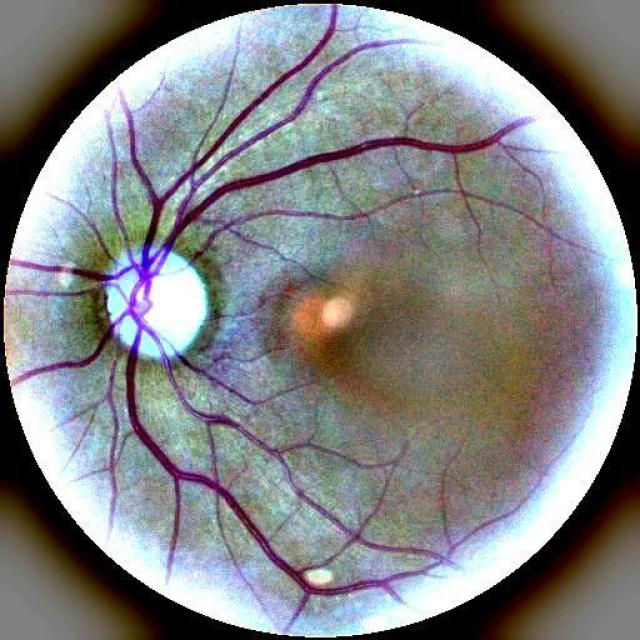Macula: (281, 286, 357, 349)
Nerves: (5, 4, 534, 616)
Optic Disk: (106, 249, 211, 360)
